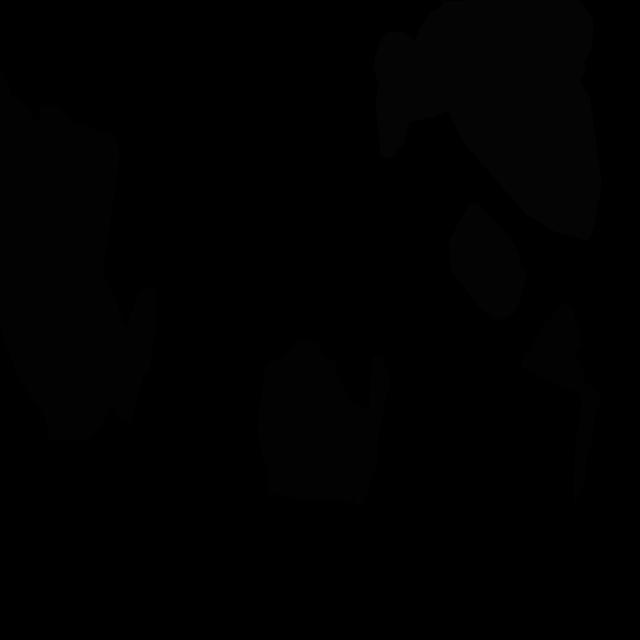cardboard: (0, 191, 132, 439), (0, 70, 120, 271), (257, 340, 390, 505), (520, 302, 600, 505), (112, 287, 158, 423)
metal: (448, 202, 526, 319)
soft_plastic: (374, 0, 602, 241)
